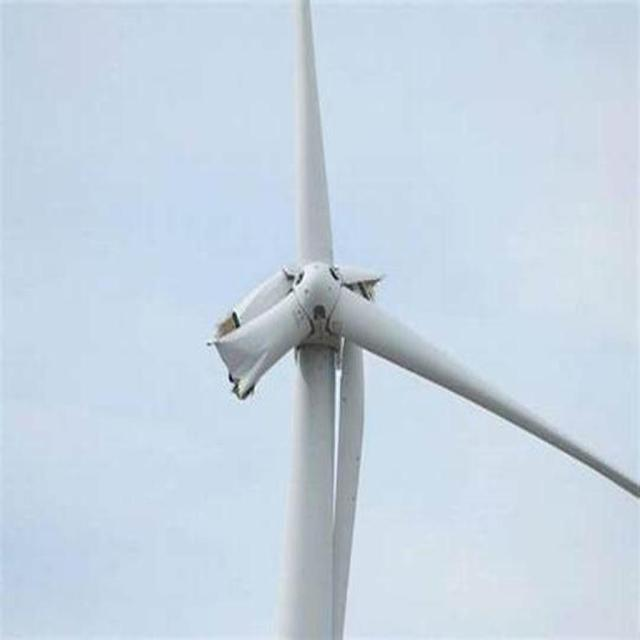crack: (208, 247, 403, 449)
